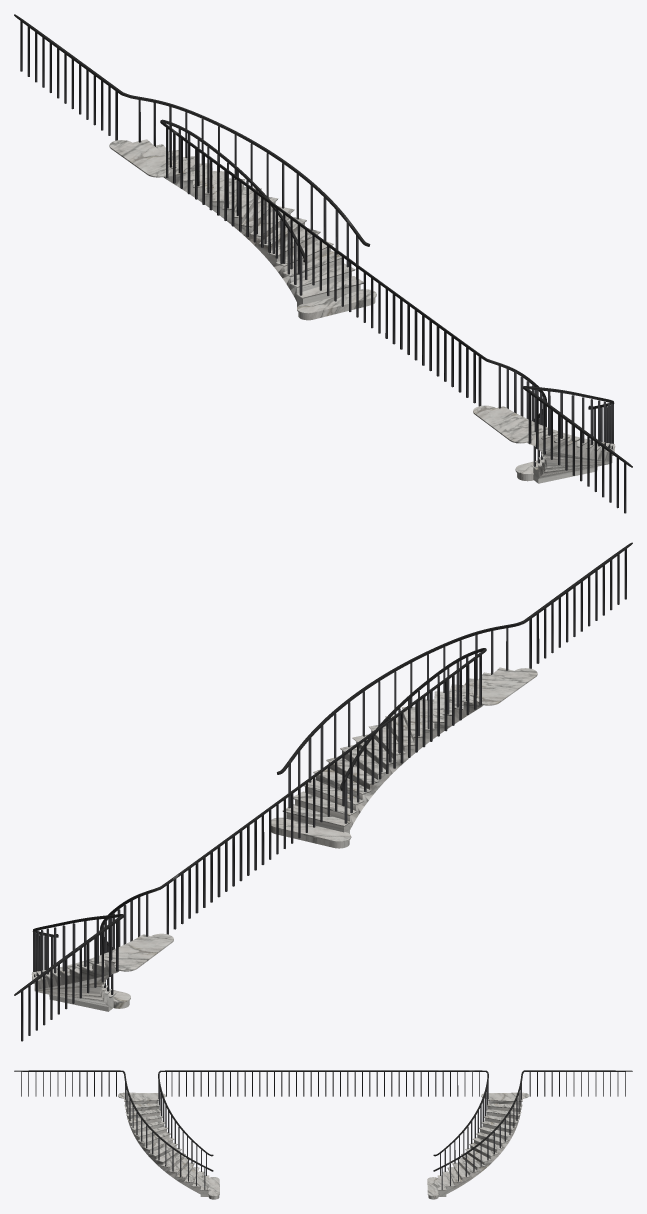
File: Scalone con corrimano 1.fbx
3 renders of one model, top to bottom at view 1: azimuth 30°, elevation 25°; view 2: azimuth 150°, elevation 25°; view 3: azimuth 270°, elevation 25°, orthographic. The views are drawn at different scales.
Visible parts, largest first — view 1: Doppio scalone con ringhiera; view 2: Doppio scalone con ringhiera; view 3: Doppio scalone con ringhiera.
Boxes of the visible parts, left/top/right/bottom form: Doppio scalone con ringhiera: left=14, top=14, right=632, bottom=513; Doppio scalone con ringhiera: left=14, top=542, right=632, bottom=1041; Doppio scalone con ringhiera: left=14, top=1070, right=632, bottom=1199.
Size of the model in its own units: 5045 by 4942 by 30847.
